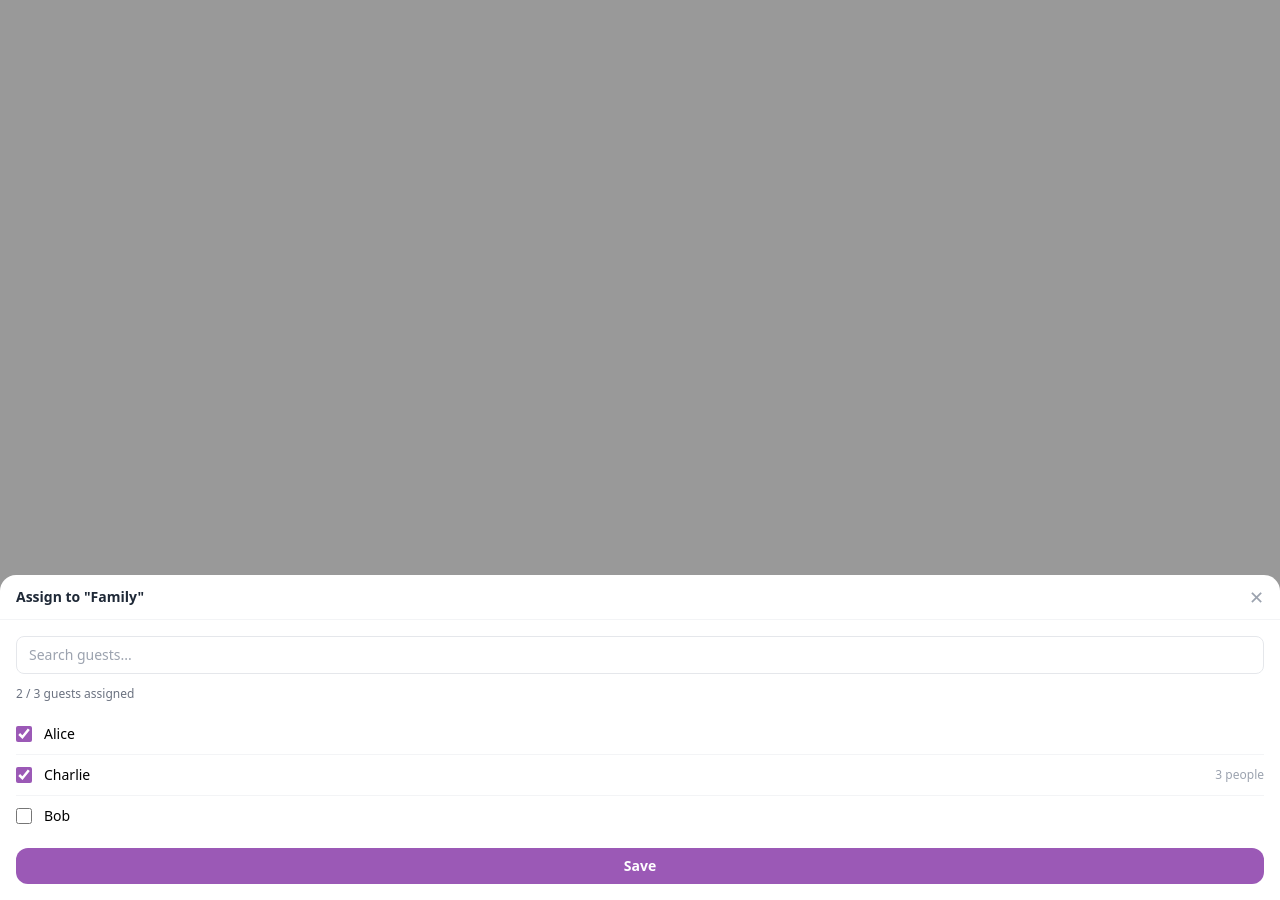
it: GuestTagAssignSheet › filters guests by search input
Type "ali" into the field with placeholder "Search guests...". click: (640, 655)
box: [16,636,1264,674]
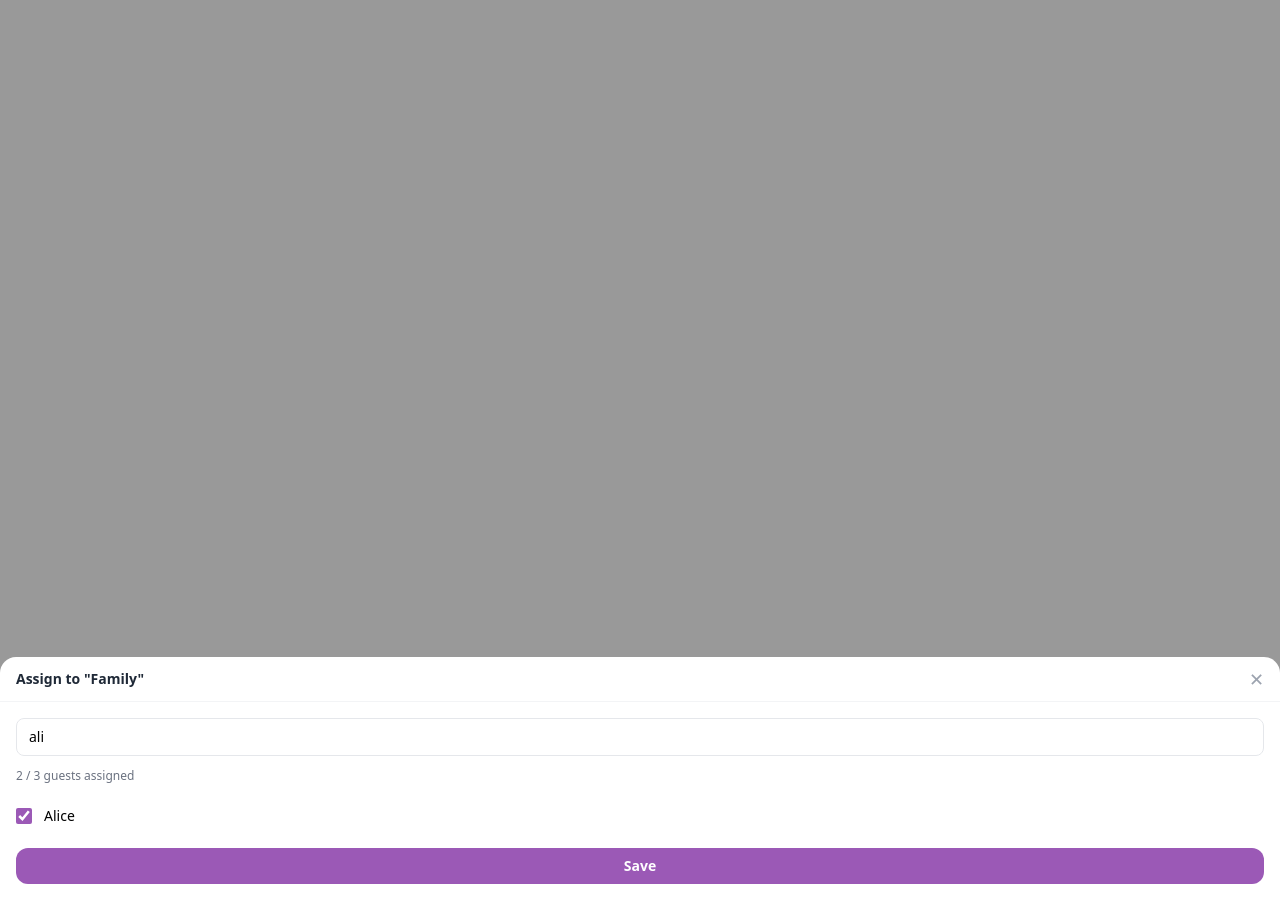
Expected: the text "Alice" is shown, [44,806,75,825]
Expected: the text "Bob" is gone
Expected: the text "Charlie" is gone
